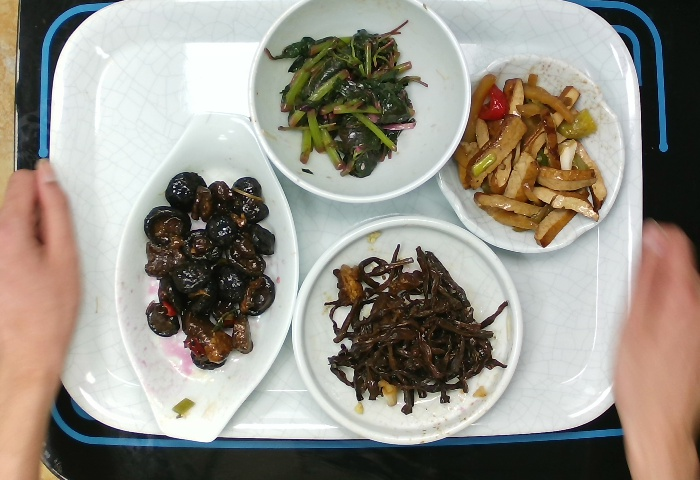JYsf-Ao_Yuan_Wan: (431, 49, 628, 258)
JYsf-Fan_Wan: (242, 1, 471, 204)
JYsf-Xiao_Yuan_Pan: (292, 212, 525, 445)
JYsf-Yu_Pan: (107, 112, 300, 445)
